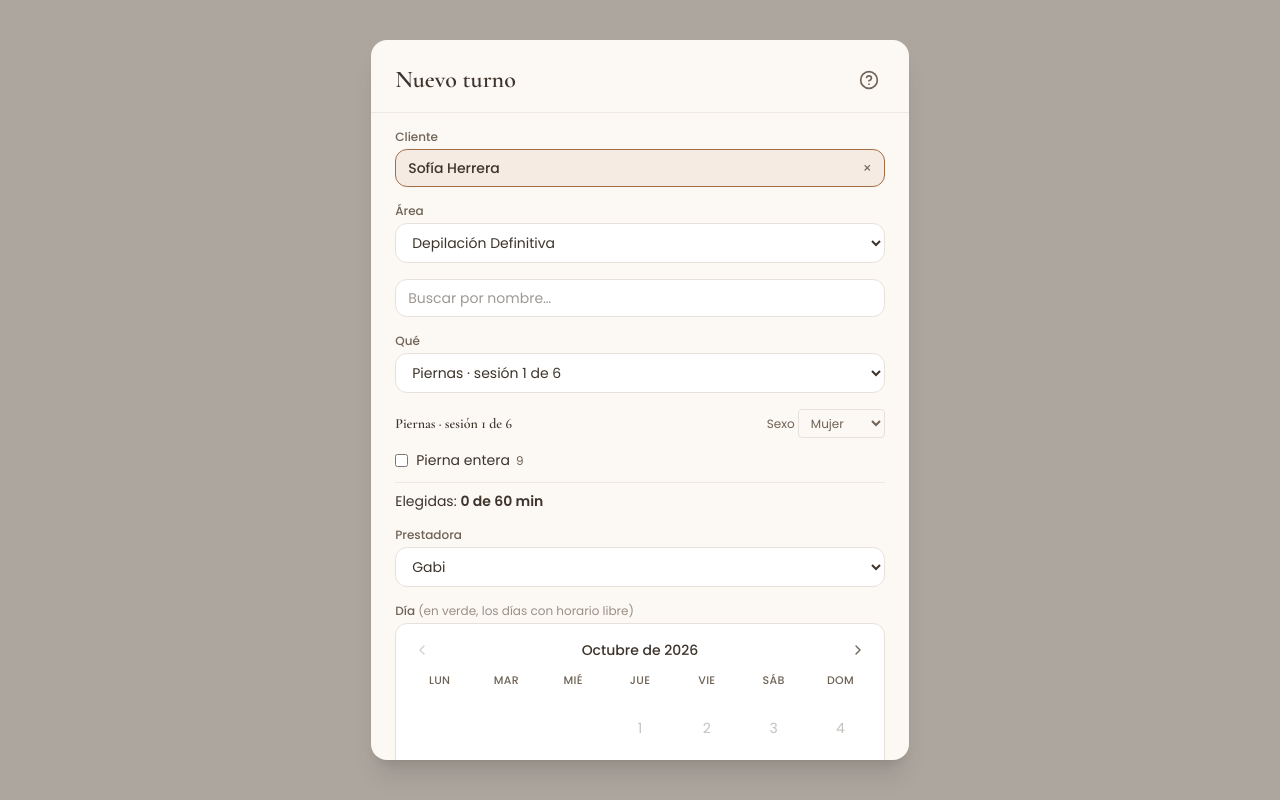
Test: NuevoTurnoModal — día y hora de Agendar (calendario de días libres) › depilación con una hora pasada: avisa y apaga Agendar y Reservar 24 h
The image size is (1280, 800).
Click the checkbox labelled "Pierna entera9".
click(402, 460)  # box [395,454,408,467]
(page scrolled)
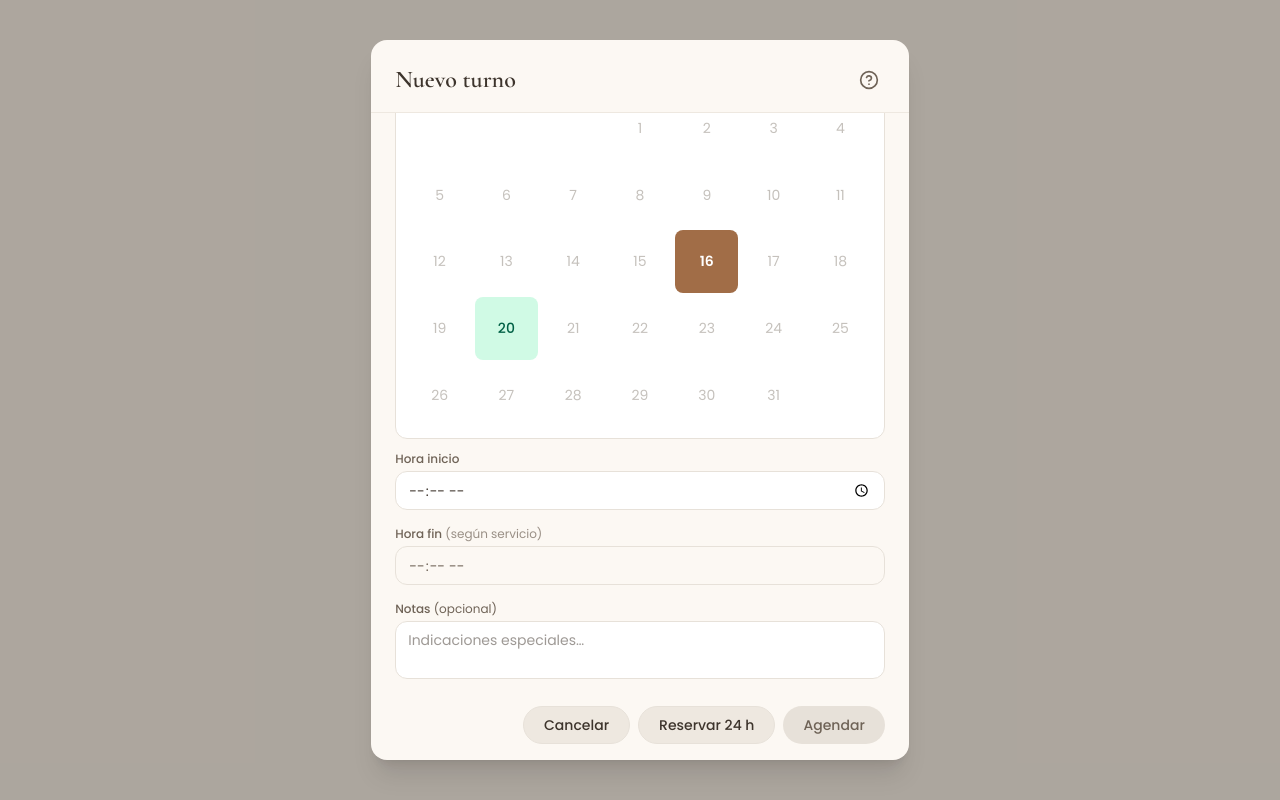
Type "09:00" into the time field labelled "Hora inicio".
click(640, 491); type("09:00")  # box [395,472,885,510]
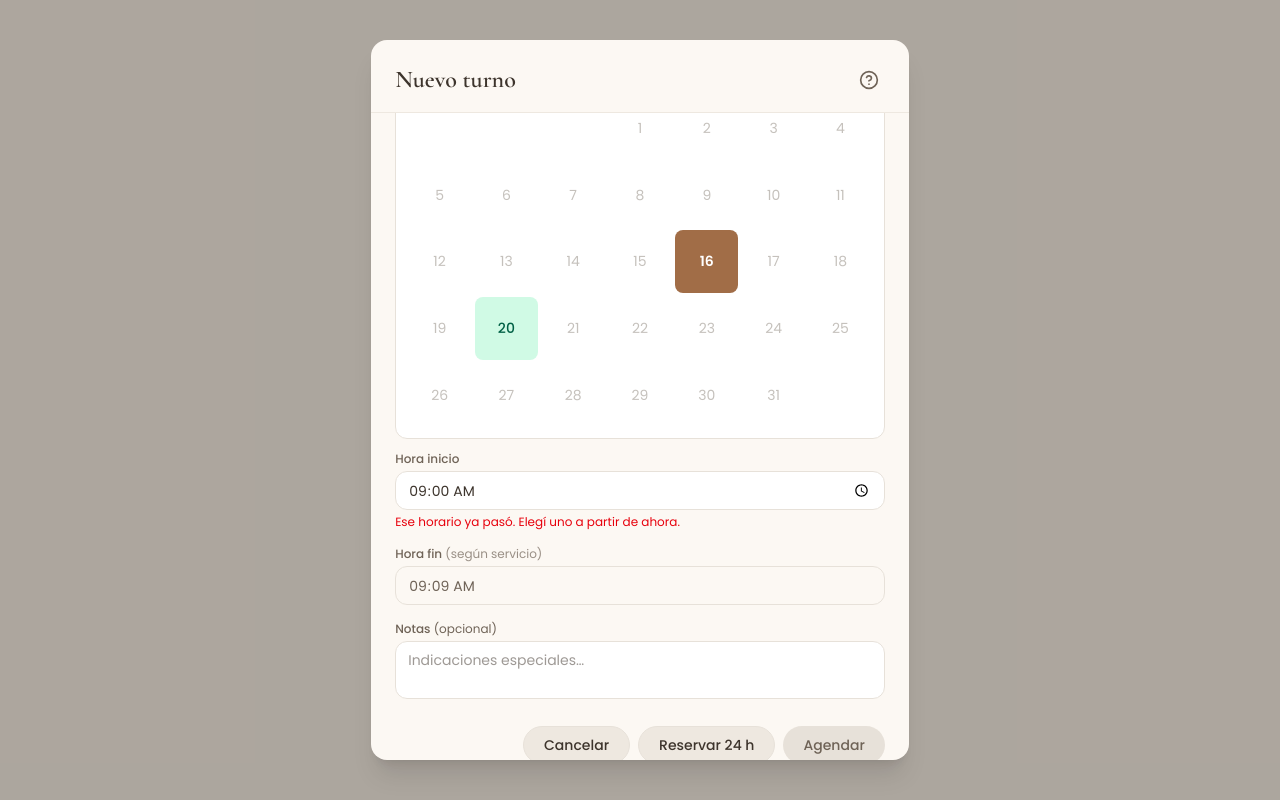
Now the button "Agendar" is disabled, box [784,726,885,760]
Now the button "Reservar 24 h" is disabled, box [638,726,775,760]
Now the text "Ese horario ya pasó. Elegí uno a partir de ahora." is shown, box [395,513,680,530]
Replace the text in the time field labelled "Hora inicio" with "10:00" at (640, 491), box [395,472,885,510]
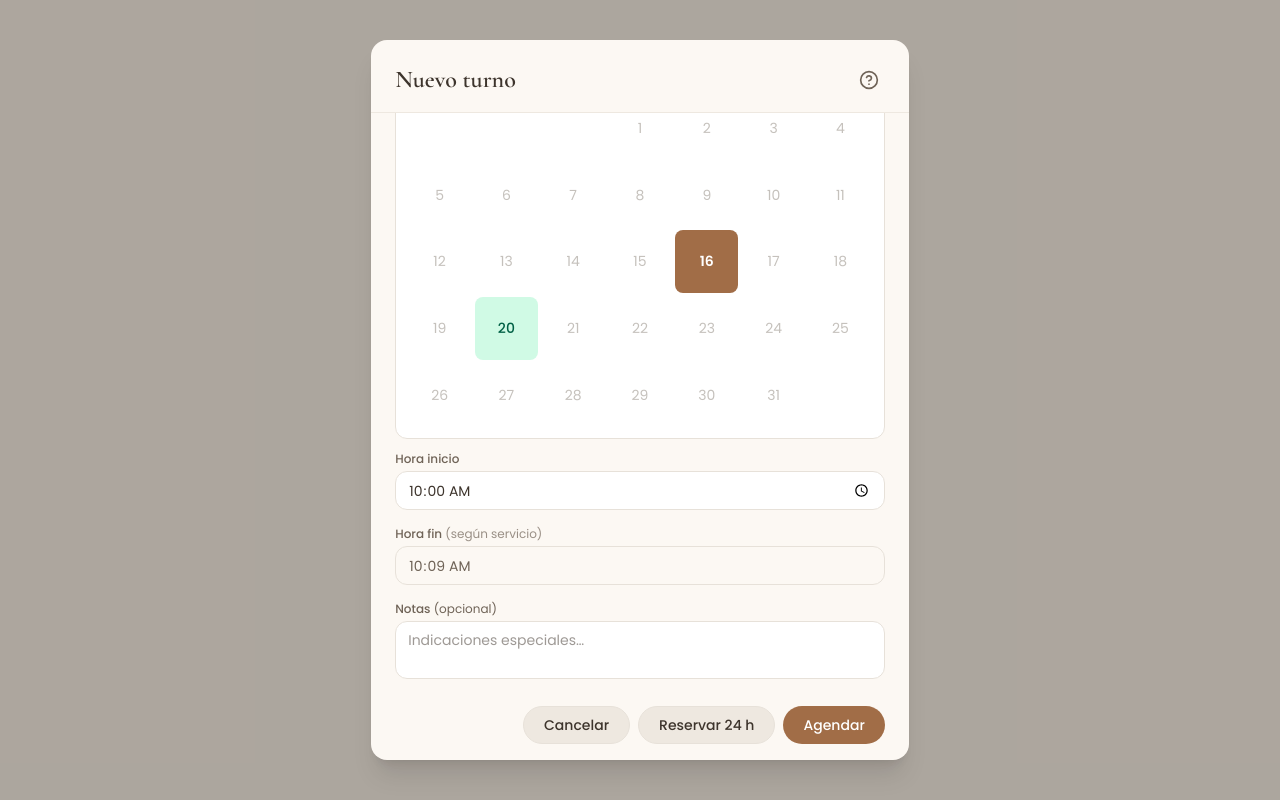
Now the button "Reservar 24 h" is enabled, box [638,706,775,744]
